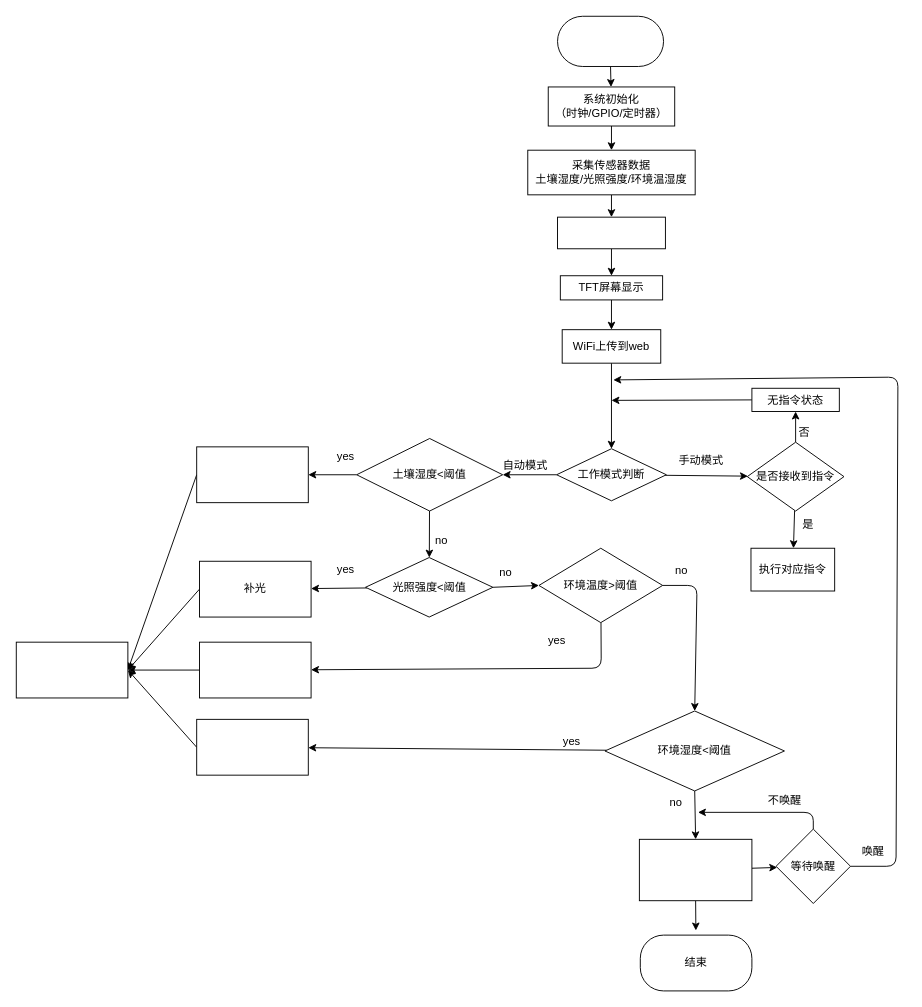
This 922x1007 diagram has some shape labels left out. The shapes that lost their labels are listed below. From the top down, each one's centre as x and y in pixels, then its label:
At point (610, 40): "开始".
At point (611, 232): "数据处理与转换".
At point (252, 474): "补水".
At point (71, 669): "蜂鸣器报警".
At point (255, 669): "风扇".
At point (252, 746): "开启加湿器".
At point (695, 869): "系统低功耗等待".
